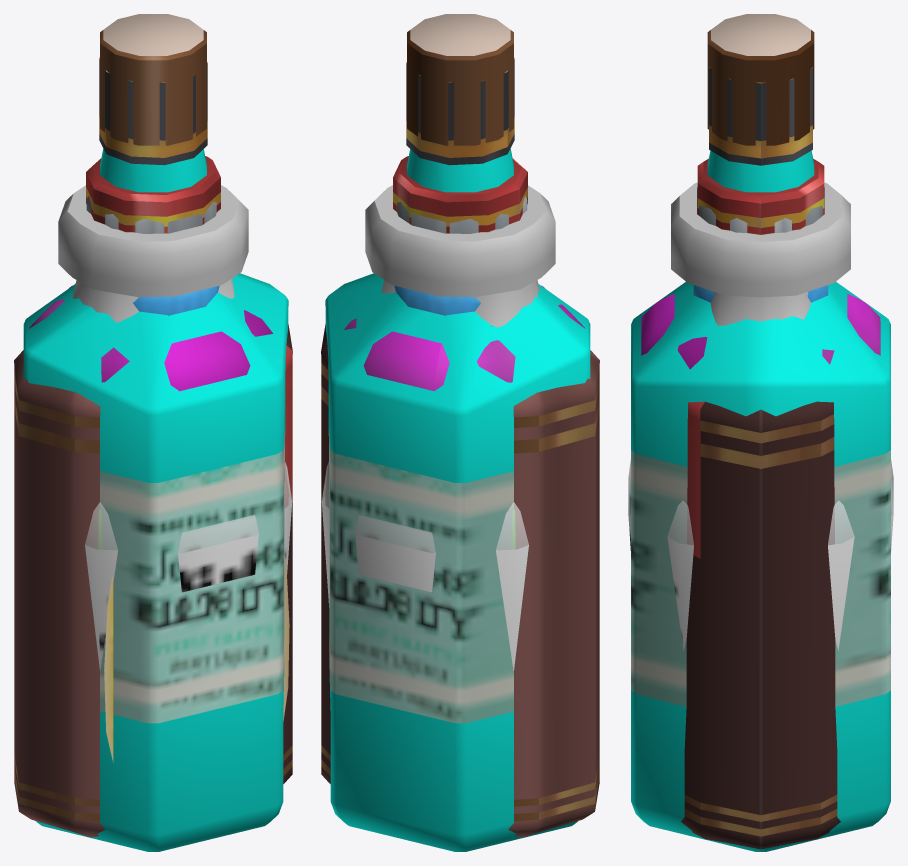
Rendered from Bottle.FBX.
The picture shows the model from 3 angles, left to right: view 1: azimuth 30°, elevation 25°; view 2: azimuth 150°, elevation 25°; view 3: azimuth 270°, elevation 25°; orthographic projection.
Parts seen in each view (by area): view 1: jjiu, mt, lb_05, mike, ptj, fb_06, lj; view 2: jjiu, mt, lb_05, mike, ptj, lj; view 3: jjiu, mt, lb_05, ptj, mike, lj.
Boxes of the visible parts, x1,y1,x2,y2 form: jjiu: [23, 14, 288, 851]; mt: [14, 156, 292, 837]; lb_05: [58, 185, 248, 322]; mike: [85, 285, 292, 670]; ptj: [28, 57, 272, 391]; fb_06: [104, 554, 289, 762]; lj: [86, 196, 216, 233]; jjiu: [325, 14, 590, 851]; mt: [321, 156, 599, 837]; lb_05: [365, 185, 555, 327]; mike: [321, 285, 528, 670]; ptj: [344, 57, 585, 391]; lj: [397, 196, 527, 233]; jjiu: [631, 14, 890, 851]; mt: [681, 159, 840, 849]; lb_05: [671, 182, 850, 325]; ptj: [641, 67, 880, 369]; mike: [628, 285, 893, 650]; lj: [697, 187, 824, 232].
Bounding box in the file's own units: 64.25 × 173 × 54.75.
